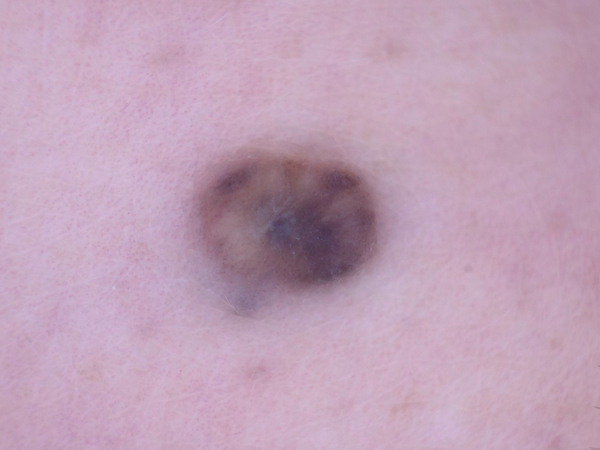Detected Lesion: (190, 141, 397, 324)
